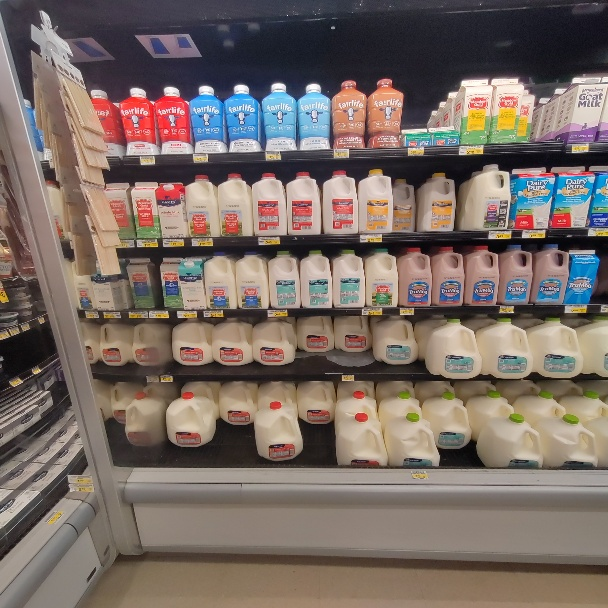All PRICE TAGS: (460, 145, 482, 154), (489, 230, 512, 238), (523, 230, 545, 238), (361, 234, 383, 242), (162, 238, 184, 246), (192, 238, 213, 246), (137, 239, 157, 247), (257, 237, 279, 244), (202, 310, 223, 317), (565, 305, 586, 312), (412, 470, 428, 479), (103, 311, 121, 319), (267, 309, 287, 316), (149, 311, 169, 318), (573, 144, 588, 153), (363, 308, 382, 315), (178, 310, 197, 317), (128, 311, 147, 318), (333, 150, 349, 158), (408, 147, 423, 155), (193, 154, 208, 162), (140, 156, 155, 164), (589, 229, 606, 236), (266, 151, 280, 159), (499, 306, 513, 313), (86, 312, 99, 319), (161, 375, 173, 382), (400, 308, 414, 314), (342, 375, 354, 381), (146, 376, 159, 381), (10, 380, 22, 385), (0, 331, 7, 338), (11, 329, 20, 334), (21, 325, 30, 329), (39, 316, 43, 323), (33, 369, 40, 372)
